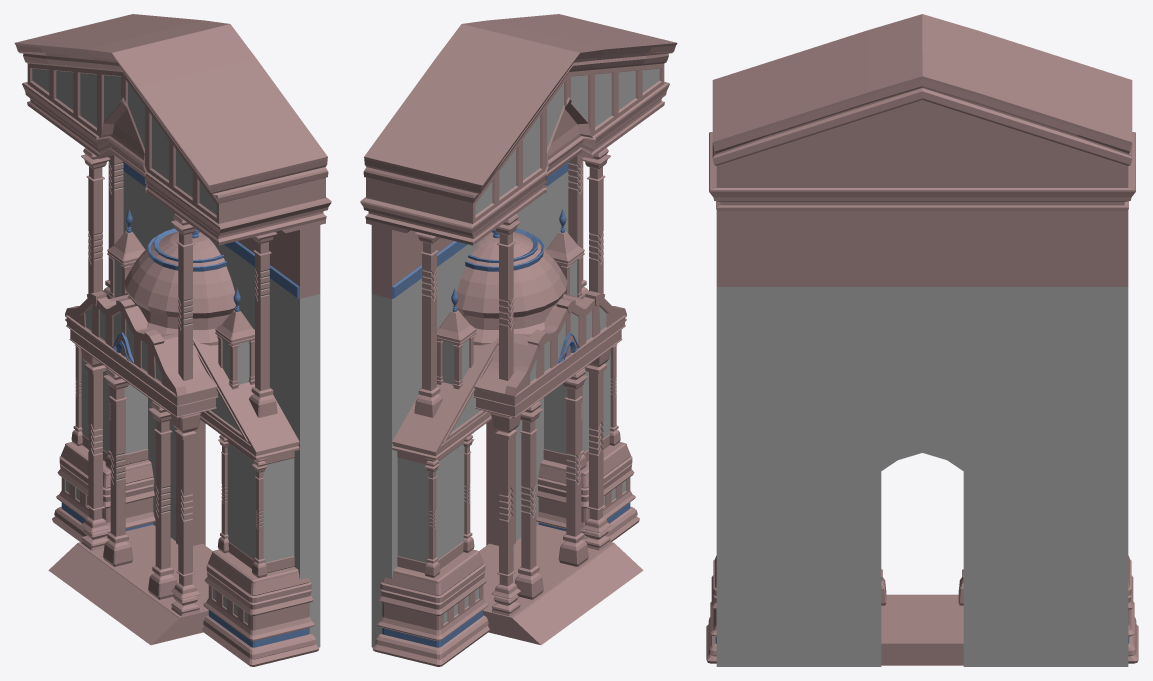
The model's file is SM_Entrance_collider.fbx.
3 views of the same model, side by side, from view 1: azimuth 30°, elevation 25°; view 2: azimuth 150°, elevation 25°; view 3: azimuth 270°, elevation 25° (orthographic). The views are drawn at different scales.
Visible parts, largest first — view 1: SM_Entrance_Collider; view 2: SM_Entrance_Collider; view 3: SM_Entrance_Collider.
Boxes of the visible parts, <box> form: SM_Entrance_Collider: <box>14,14,331,666</box>; SM_Entrance_Collider: <box>360,14,677,666</box>; SM_Entrance_Collider: <box>706,14,1138,666</box>.
Bounding box in the file's own units: 682 × 2707 × 1787.
